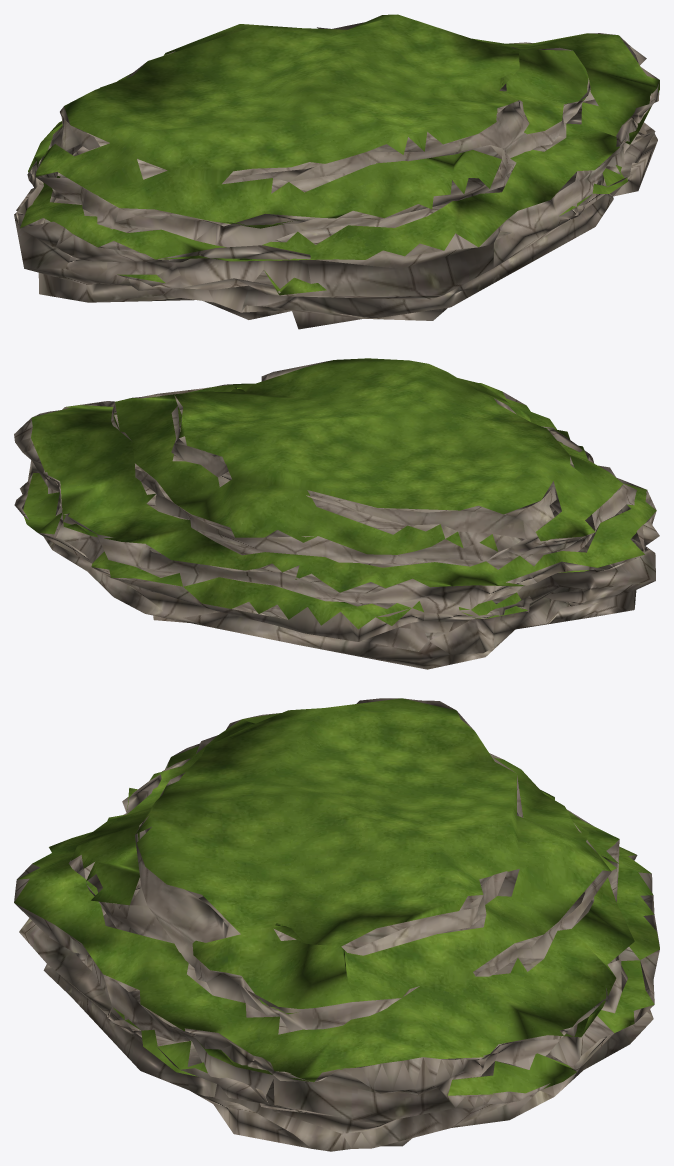
Rendered from rock_flat.glb.
3 views of the same model, one above another, from view 1: azimuth 30°, elevation 25°; view 2: azimuth 150°, elevation 25°; view 3: azimuth 270°, elevation 25° (orthographic). The views are drawn at different scales.
Parts seen in each view (by area): view 1: rock_flat_Rock; view 2: rock_flat_Rock; view 3: rock_flat_Rock.
Part boxes in pixels (bbox=[...]): rock_flat_Rock: bbox=[14, 14, 659, 329]; rock_flat_Rock: bbox=[14, 358, 659, 669]; rock_flat_Rock: bbox=[14, 698, 659, 1151].
Size of the model in its own units: 3.45 by 0.8688 by 2.56.
2 materials, 2 textured.
